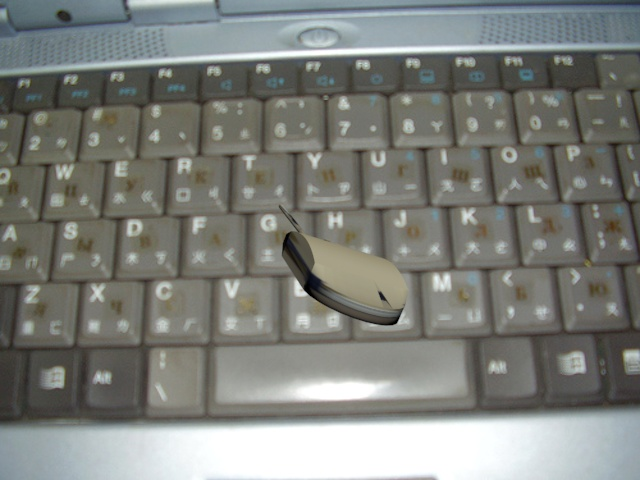mouse: (273, 193, 416, 336)
